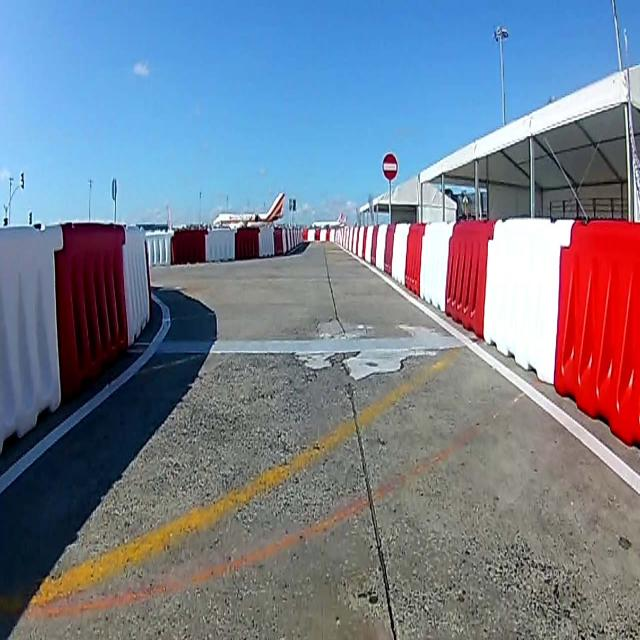girisyok: (382, 152, 398, 180)
